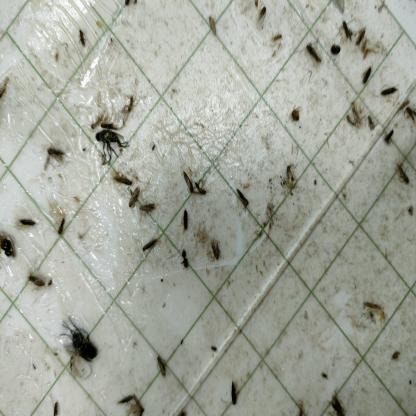prays_oleae: (395, 154, 415, 200), (0, 226, 18, 270), (205, 230, 225, 268), (154, 350, 175, 386), (223, 376, 244, 407), (16, 209, 40, 234), (25, 270, 48, 296), (195, 176, 216, 204), (326, 386, 346, 415), (126, 388, 148, 414), (175, 245, 193, 272), (381, 80, 400, 105), (338, 17, 353, 48), (114, 168, 132, 193), (304, 40, 321, 66), (180, 166, 194, 196), (235, 180, 248, 210), (352, 22, 368, 46), (139, 198, 159, 217), (401, 103, 416, 128), (382, 122, 396, 148), (56, 212, 68, 240), (47, 148, 69, 162), (361, 64, 375, 86), (364, 111, 376, 136), (256, 11, 272, 28), (140, 237, 158, 252), (180, 208, 191, 231)
